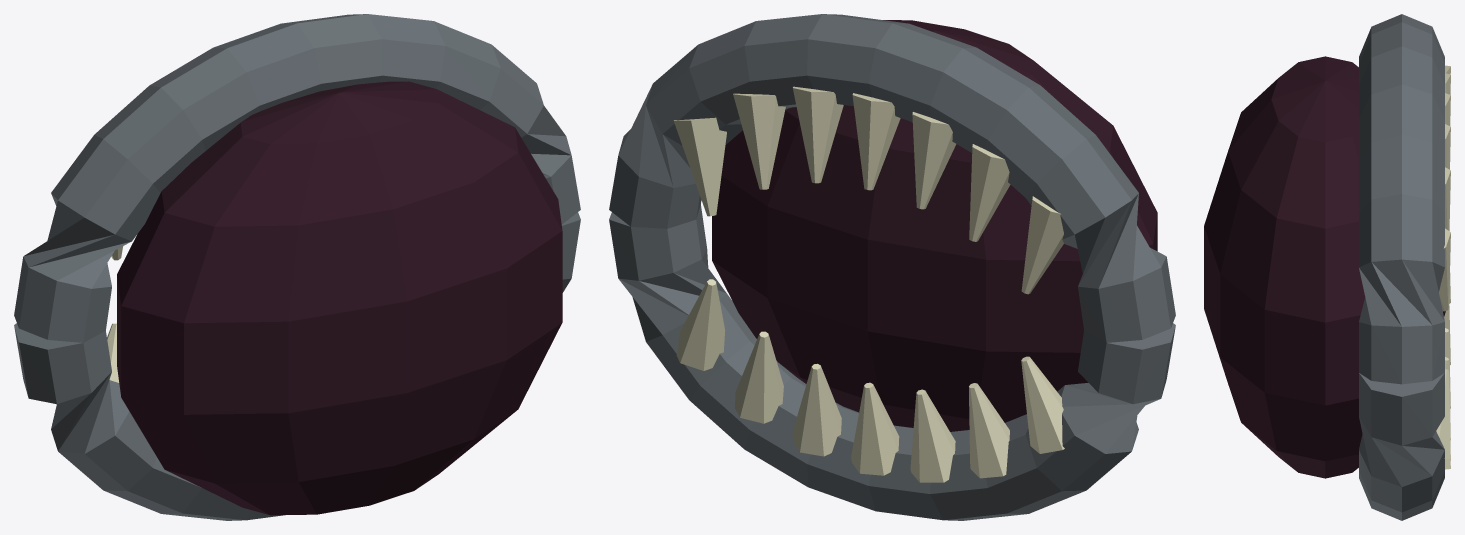
The model's file is devourer_mouth_open.obj.
The picture shows the model from 3 angles, left to right: view 1: azimuth 30°, elevation 25°; view 2: azimuth 150°, elevation 25°; view 3: azimuth 270°, elevation 25°; orthographic projection. The views are drawn at different scales.
Parts seen in each view (by area): view 1: devourer_mouth_open; view 2: devourer_mouth_open; view 3: devourer_mouth_open.
Part boxes in pixels (x1=…): devourer_mouth_open: x1=14, y1=14, x2=580, y2=520; devourer_mouth_open: x1=609, y1=14, x2=1175, y2=520; devourer_mouth_open: x1=1204, y1=14, x2=1450, y2=520.
Size of the model in its own units: 1.22 by 1.02 by 0.5159.
